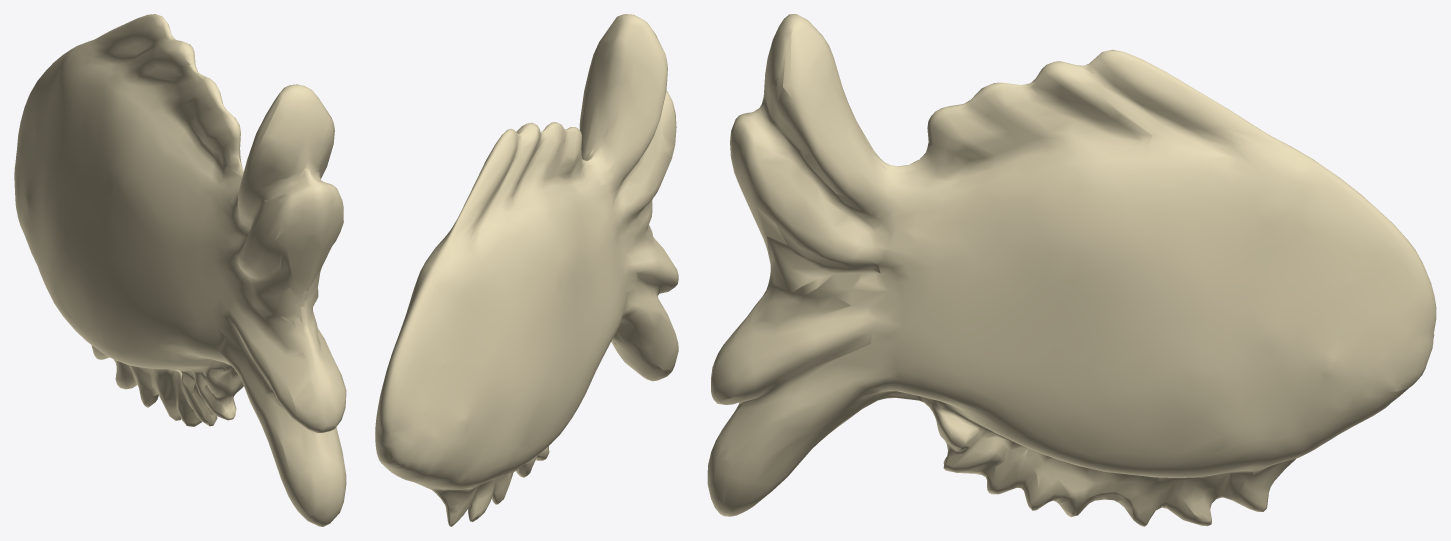
The model's file is Boong 1.fbx.
The picture shows the model from 3 angles, left to right: view 1: azimuth 30°, elevation 25°; view 2: azimuth 150°, elevation 25°; view 3: azimuth 270°, elevation 25°; orthographic projection. The views are drawn at different scales.
Parts seen in each view (by area): view 1: Quad_Sphere.001; view 2: Quad_Sphere.001; view 3: Quad_Sphere.001.
Boxes of the visible parts, <box> form: Quad_Sphere.001: <box>14,14,346,526</box>; Quad_Sphere.001: <box>375,14,678,526</box>; Quad_Sphere.001: <box>707,14,1436,526</box>.
Bounding box in the file's own units: 84.98 × 282 × 366.
